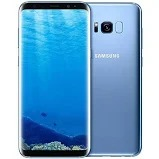samsung: (17, 1, 89, 159), (82, 1, 142, 157)
